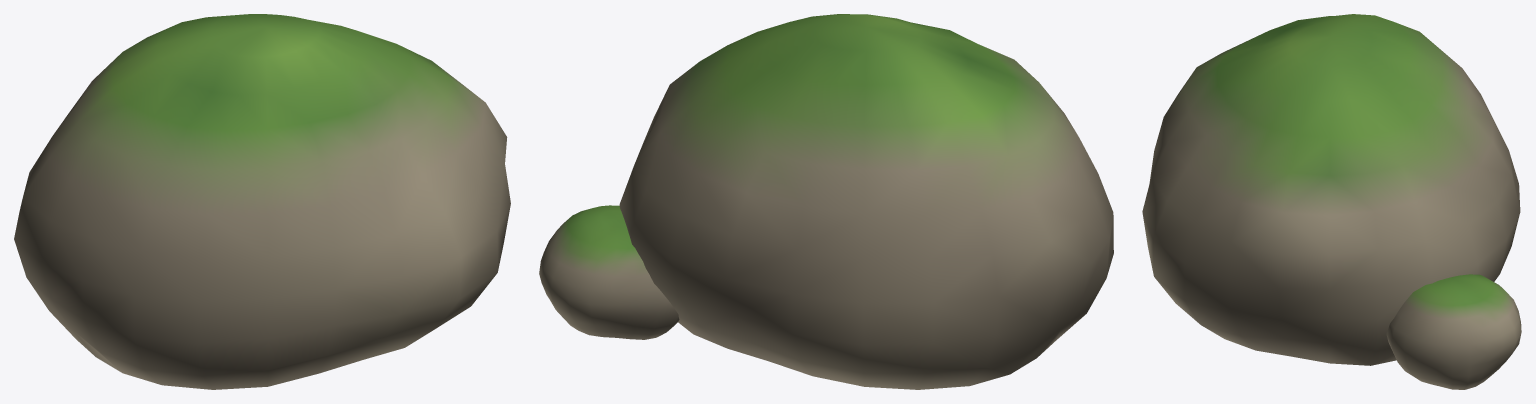
File: RockA.fbx
The picture shows the model from 3 angles, left to right: view 1: azimuth 30°, elevation 25°; view 2: azimuth 150°, elevation 25°; view 3: azimuth 270°, elevation 25°; orthographic projection. The views are drawn at different scales.
Visible parts, largest first — view 1: RockA; view 2: RockA; view 3: RockA.
Boxes of the visible parts, x1,y1,x2,y2 form: RockA: [14, 14, 510, 389]; RockA: [539, 14, 1113, 389]; RockA: [1142, 14, 1521, 389].
Size of the model in its own units: 1.19 by 0.6952 by 0.9279.
